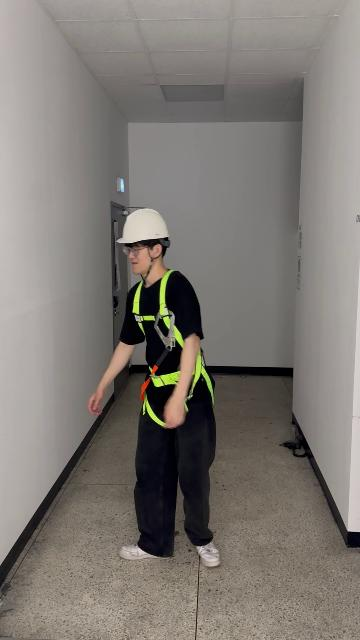helmet_worn: (115, 208, 172, 245)
shoe_not_worn: (119, 542, 164, 561), (195, 541, 221, 568)
vest_worn: (134, 276, 211, 416)
